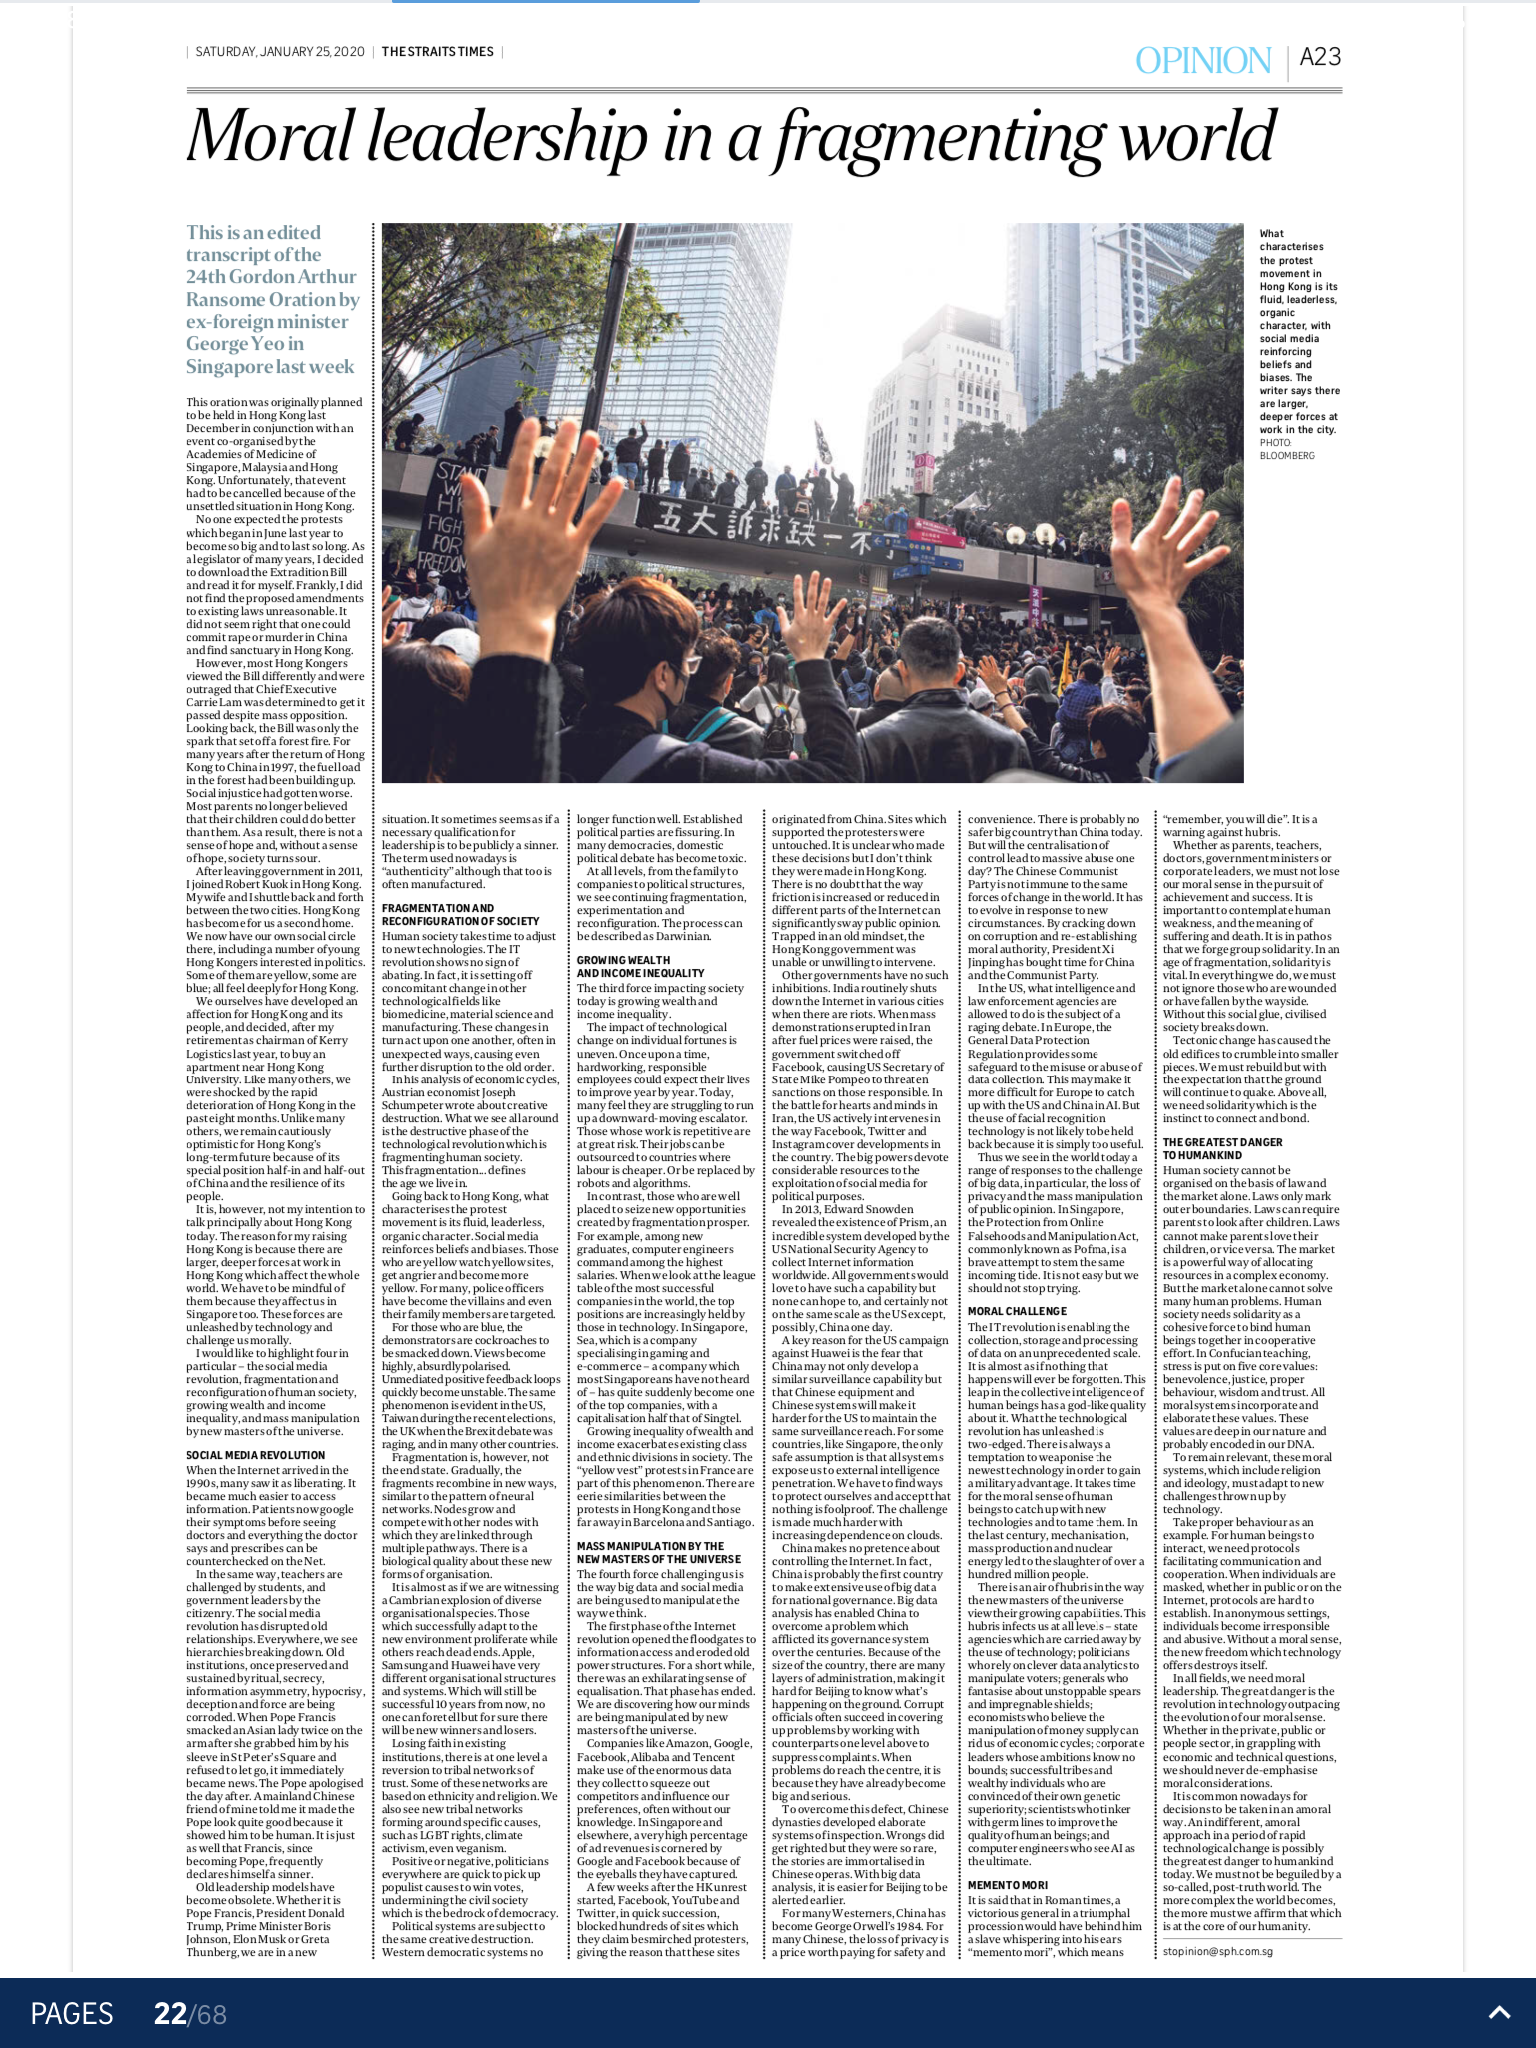Headline: (187, 105, 1276, 179)
Illustration: (1258, 223, 1349, 463)
Image: (382, 223, 1241, 782)
Text: (187, 393, 369, 1958), (378, 810, 560, 1963), (571, 818, 753, 1971), (963, 806, 1146, 1959), (770, 811, 950, 1964), (1165, 801, 1346, 1942)
